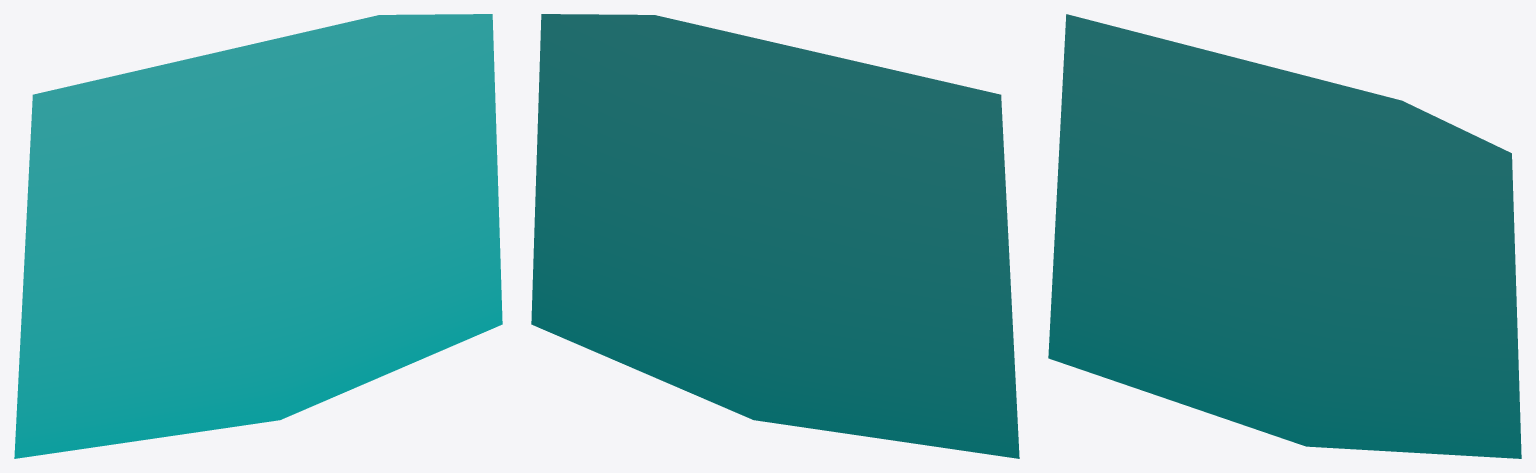
The model's file is vmcobd0ja_VarD_LOD3.fbx.
3 renders of one model, left to right at view 1: azimuth 30°, elevation 25°; view 2: azimuth 150°, elevation 25°; view 3: azimuth 330°, elevation 25°, orthographic. The views are drawn at different scales.
Visible parts, largest first — view 1: _0j3f_VarD_LOD4; view 2: _0j3f_VarD_LOD4; view 3: _0j3f_VarD_LOD4.
Boxes of the visible parts, <box> form: _0j3f_VarD_LOD4: <box>14,14,502,458</box>; _0j3f_VarD_LOD4: <box>531,14,1019,458</box>; _0j3f_VarD_LOD4: <box>1048,14,1521,458</box>.
Bounding box in the file's own units: 55.37 × 41.82 × 0.
